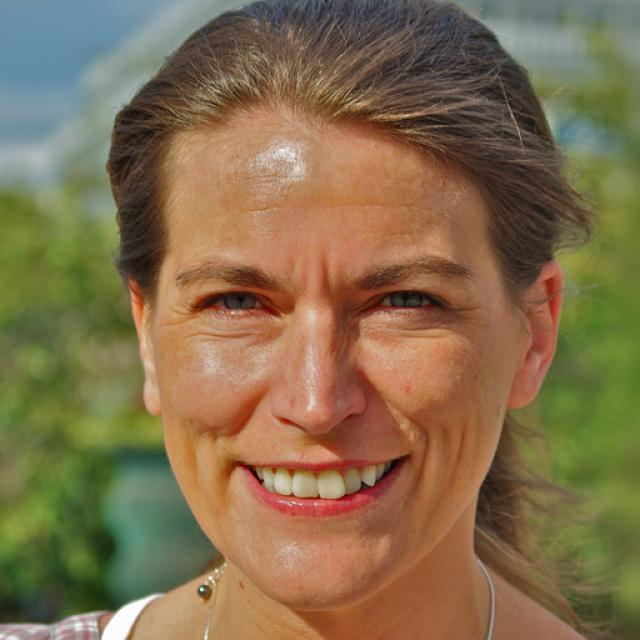Wrinkle: (363, 378, 435, 495), (241, 196, 442, 219)
